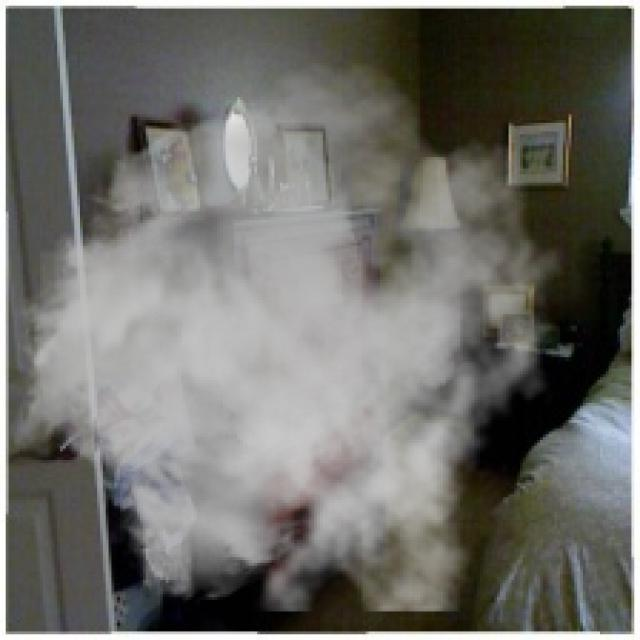smoke: (6, 60, 566, 611)
